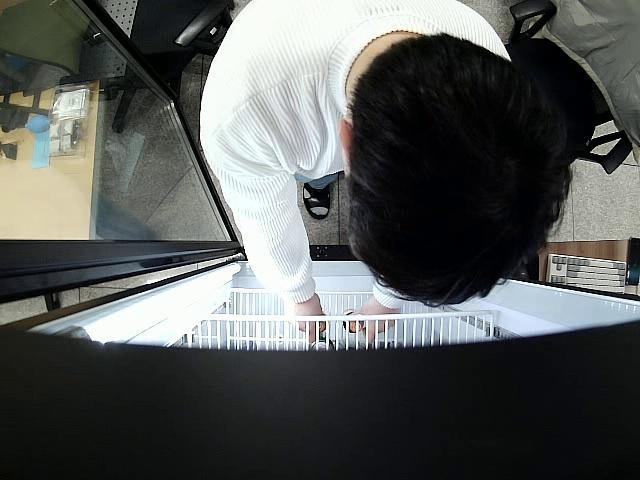17_vita500: (344, 310, 365, 332)
